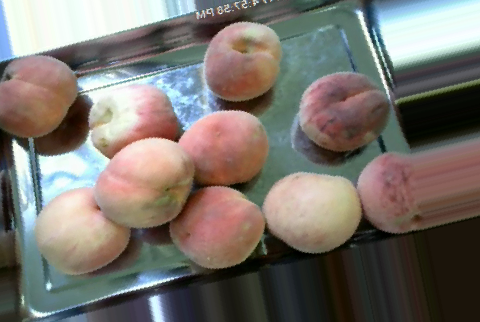Peach: (95, 136, 194, 230), (167, 183, 262, 271), (38, 185, 130, 274), (265, 169, 358, 252), (298, 69, 389, 152), (85, 84, 179, 159), (0, 55, 79, 139), (202, 20, 282, 100), (182, 109, 263, 188)
